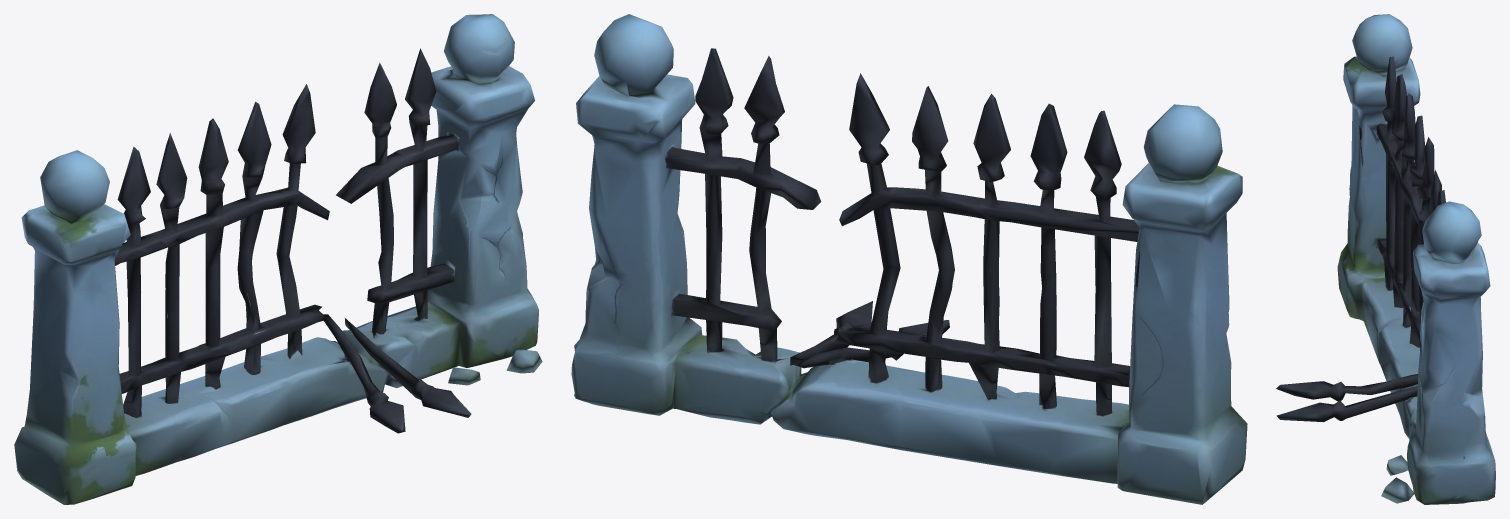
The model's file is gy_fence_broken-DPThzyRR.glb.
3 renders of one model, left to right at view 1: azimuth 30°, elevation 25°; view 2: azimuth 150°, elevation 25°; view 3: azimuth 270°, elevation 25°, orthographic. The views are drawn at different scales.
Parts seen in each view (by area): view 1: tripo_node_634d3ff2-0184-48b5-8f00-dd856bef839c; view 2: tripo_node_634d3ff2-0184-48b5-8f00-dd856bef839c; view 3: tripo_node_634d3ff2-0184-48b5-8f00-dd856bef839c.
Boxes of the visible parts, bbox=[...] form: tripo_node_634d3ff2-0184-48b5-8f00-dd856bef839c: bbox=[14, 14, 542, 504]; tripo_node_634d3ff2-0184-48b5-8f00-dd856bef839c: bbox=[571, 14, 1247, 504]; tripo_node_634d3ff2-0184-48b5-8f00-dd856bef839c: bbox=[1276, 14, 1495, 504].
Bounding box in the file's own units: 1 × 0.5967 × 0.4159.
1 material, 1 textured.
